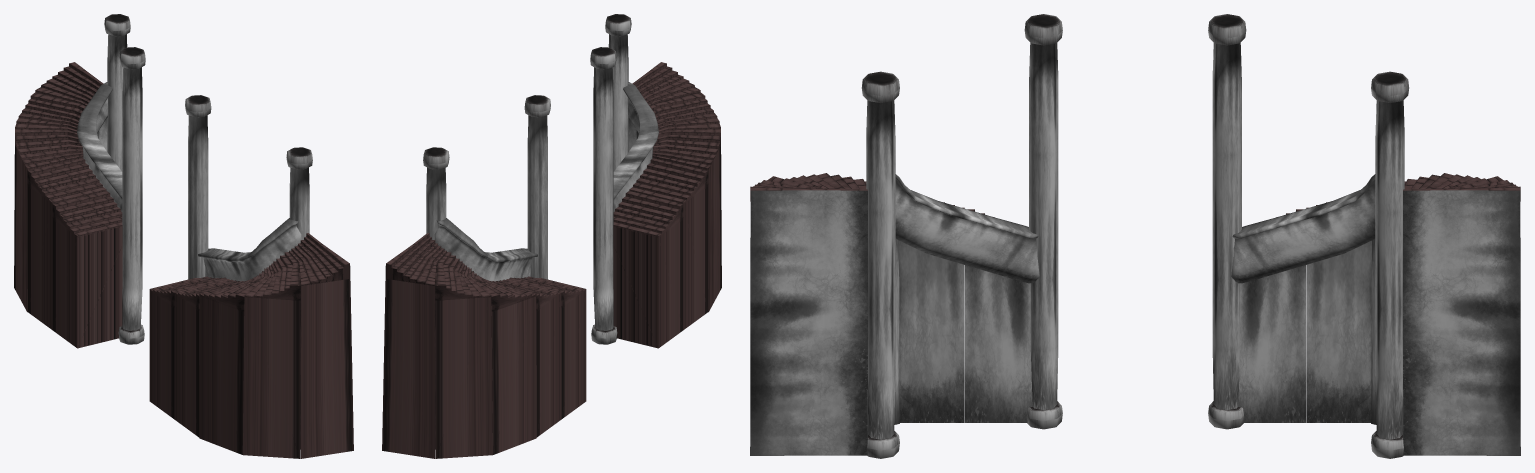
File: MOD_L1_Room3_Stairs_Side.fbx
3 renders of one model, left to right at view 1: azimuth 30°, elevation 25°; view 2: azimuth 150°, elevation 25°; view 3: azimuth 270°, elevation 25°, orthographic. The views are drawn at different scales.
Parts seen in each view (by area): view 1: Stairs01.002; view 2: Stairs01.002; view 3: Stairs01.002.
Boxes of the visible parts, left/top/right/bottom form: Stairs01.002: left=14, top=14, right=353, bottom=458; Stairs01.002: left=382, top=14, right=721, bottom=458; Stairs01.002: left=750, top=14, right=1520, bottom=458.
Bounding box in the file's own units: 58.78 × 151 × 262.
